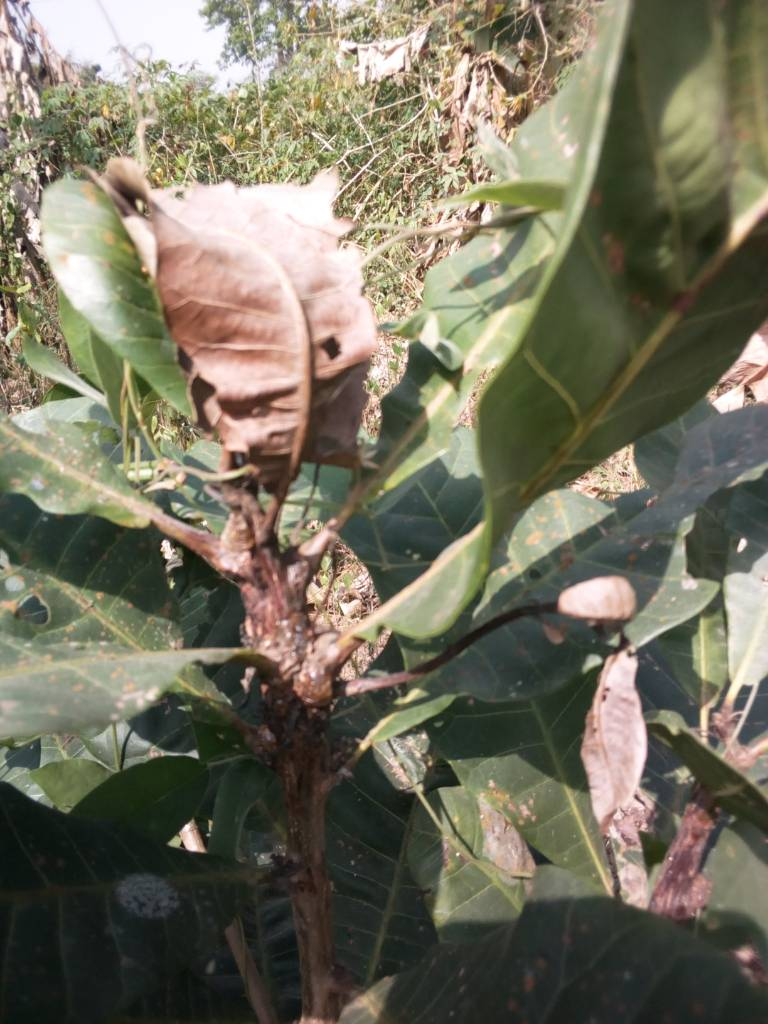Dessèchement des bourgeons: (202, 535, 388, 780)
